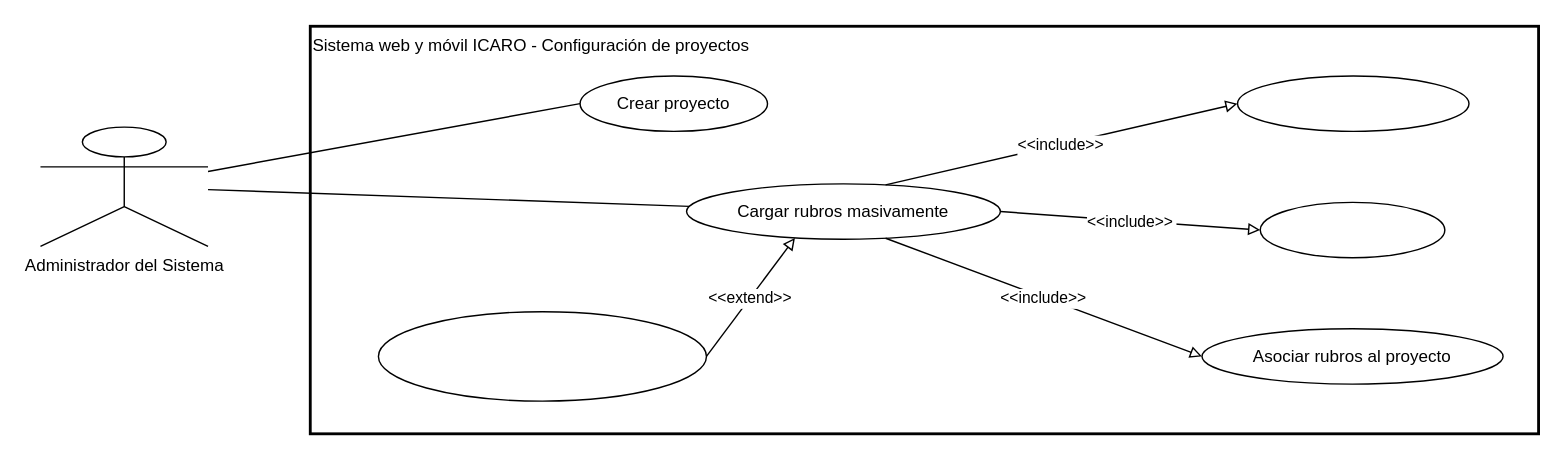
This 1563x459 diagram has some shape labels left out. The centre of each missing label's shape, as x and y in pixels:
"Insertar rubros" belongs at point (1352, 229).
"Revertir transacción por error de formato" belongs at point (541, 355).
"Validar archivo CSV" belongs at point (1352, 103).
